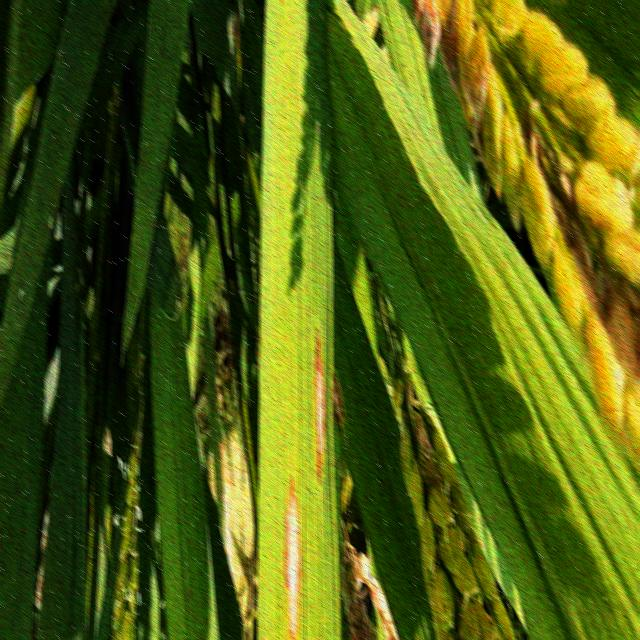LEAF BLAST: (285, 476, 301, 640), (315, 331, 326, 481)
